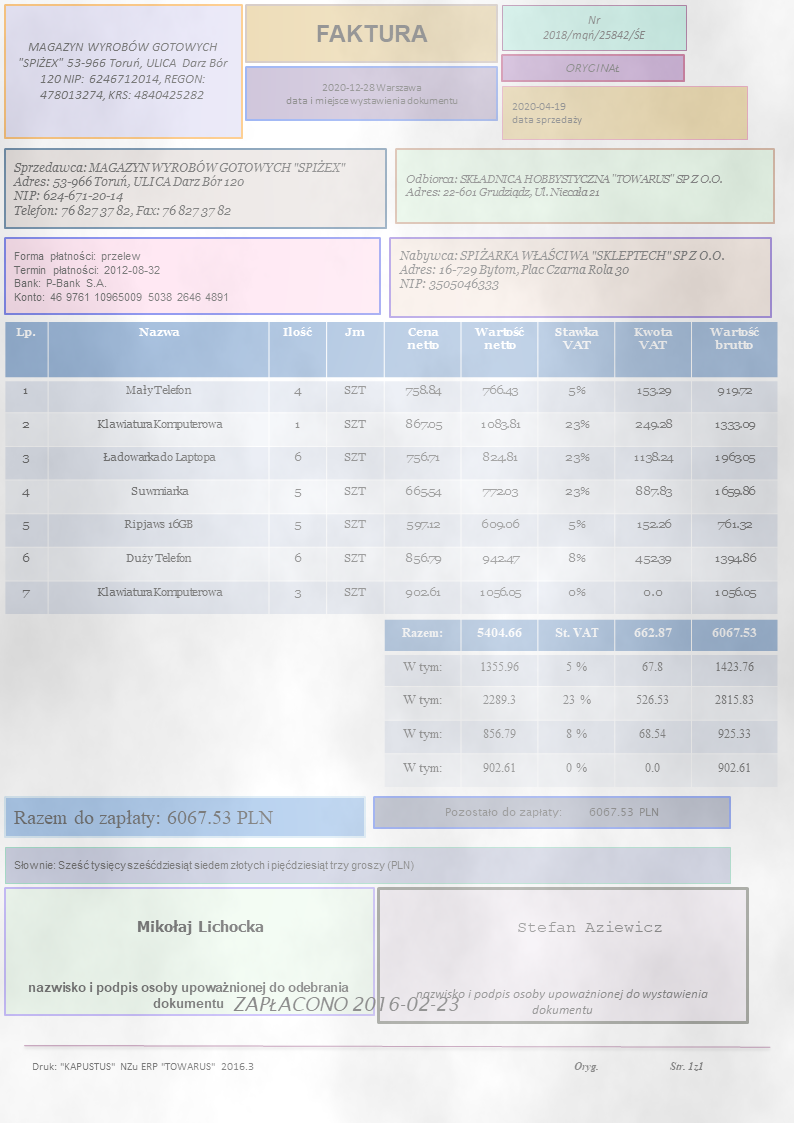Table: (3, 319, 780, 617), (382, 618, 778, 789)
TextBox: (11, 155, 349, 222), (397, 244, 728, 294), (16, 37, 230, 104), (11, 247, 231, 305), (402, 169, 723, 200), (415, 984, 710, 1017), (24, 981, 348, 1011), (12, 855, 415, 874), (10, 805, 276, 831), (233, 992, 465, 1019), (282, 79, 461, 110), (28, 1056, 256, 1075), (442, 804, 661, 821), (540, 13, 646, 45), (134, 913, 267, 937), (515, 918, 665, 937), (313, 22, 431, 46), (508, 97, 584, 132), (571, 1057, 707, 1073), (563, 59, 622, 77)
